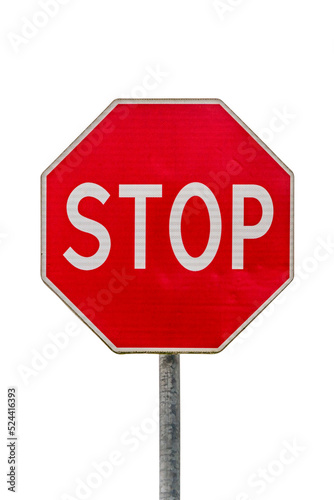StopSign: (39, 97, 294, 353)
